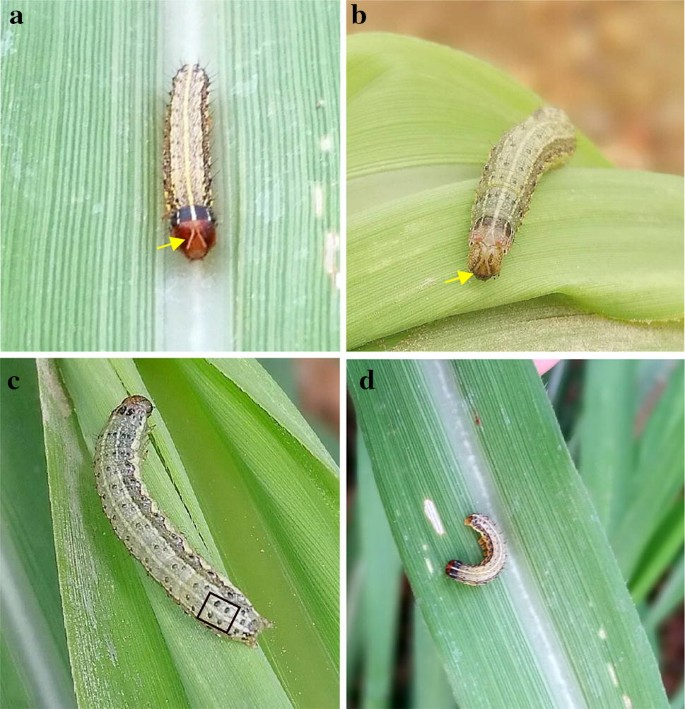Armyworm: (98, 371, 281, 662), (461, 96, 596, 299), (153, 47, 235, 282), (443, 497, 509, 598)
